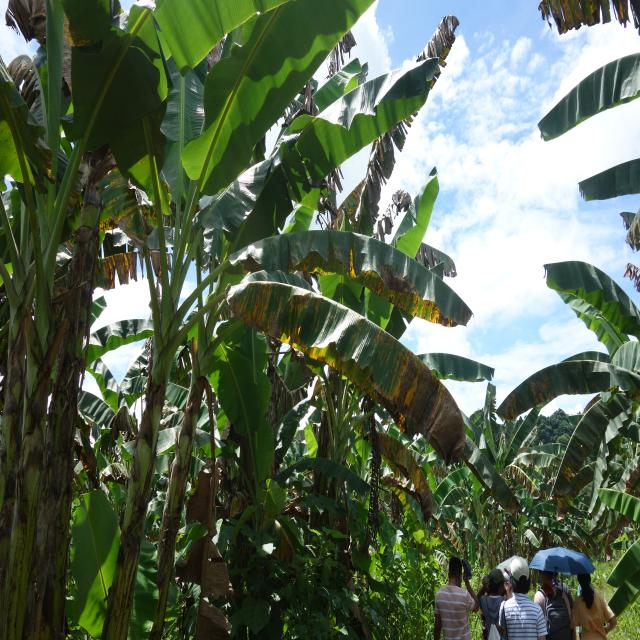Banana-plant: (30, 114, 127, 638), (91, 308, 197, 640), (12, 180, 76, 640), (146, 319, 237, 640), (3, 180, 28, 640)
